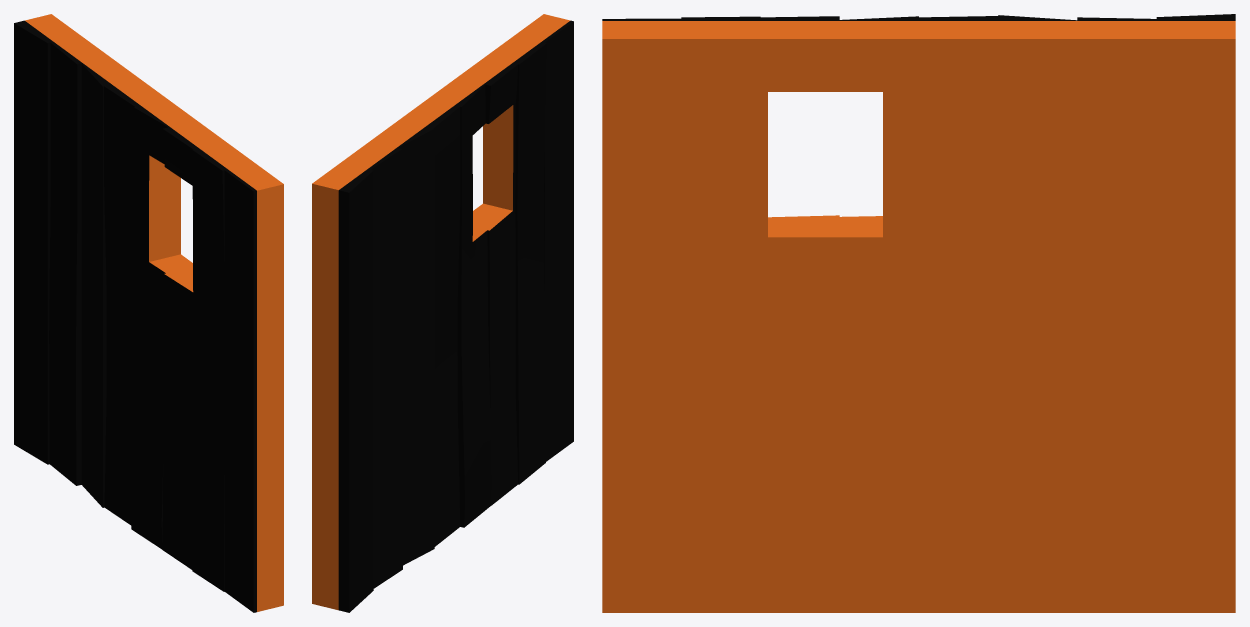
The model's file is MurRDCPetiteFenetreFerme.fbx.
3 renders of one model, left to right at view 1: azimuth 30°, elevation 25°; view 2: azimuth 150°, elevation 25°; view 3: azimuth 270°, elevation 25°, orthographic. The views are drawn at different scales.
Visible parts, largest first — view 1: MurRDCPetiteFenetreFerme; view 2: MurRDCPetiteFenetreFerme; view 3: MurRDCPetiteFenetreFerme.
Part boxes in pixels (left/top/right/bottom): MurRDCPetiteFenetreFerme: left=14, top=14, right=283, bottom=612; MurRDCPetiteFenetreFerme: left=312, top=14, right=573, bottom=612; MurRDCPetiteFenetreFerme: left=602, top=14, right=1235, bottom=612.
Bounding box in the file's own units: 55.85 × 600 × 600.
